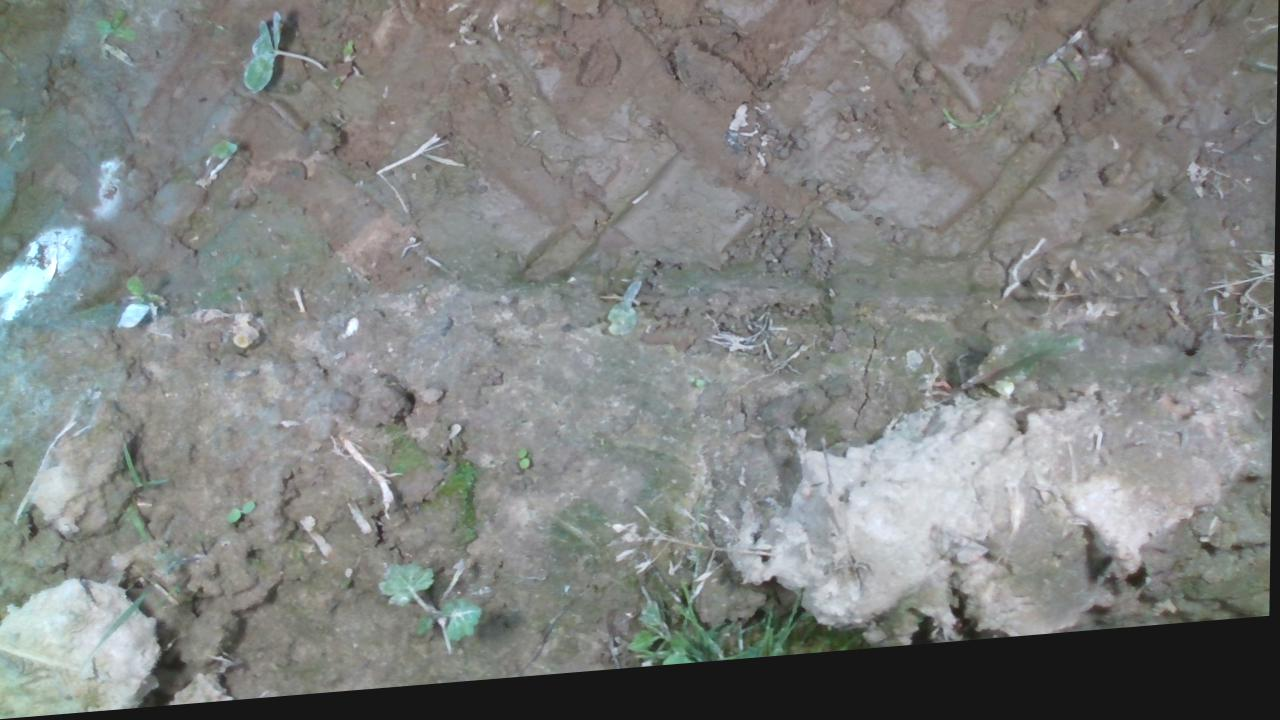weed: (226, 502, 256, 527), (514, 452, 532, 480)
